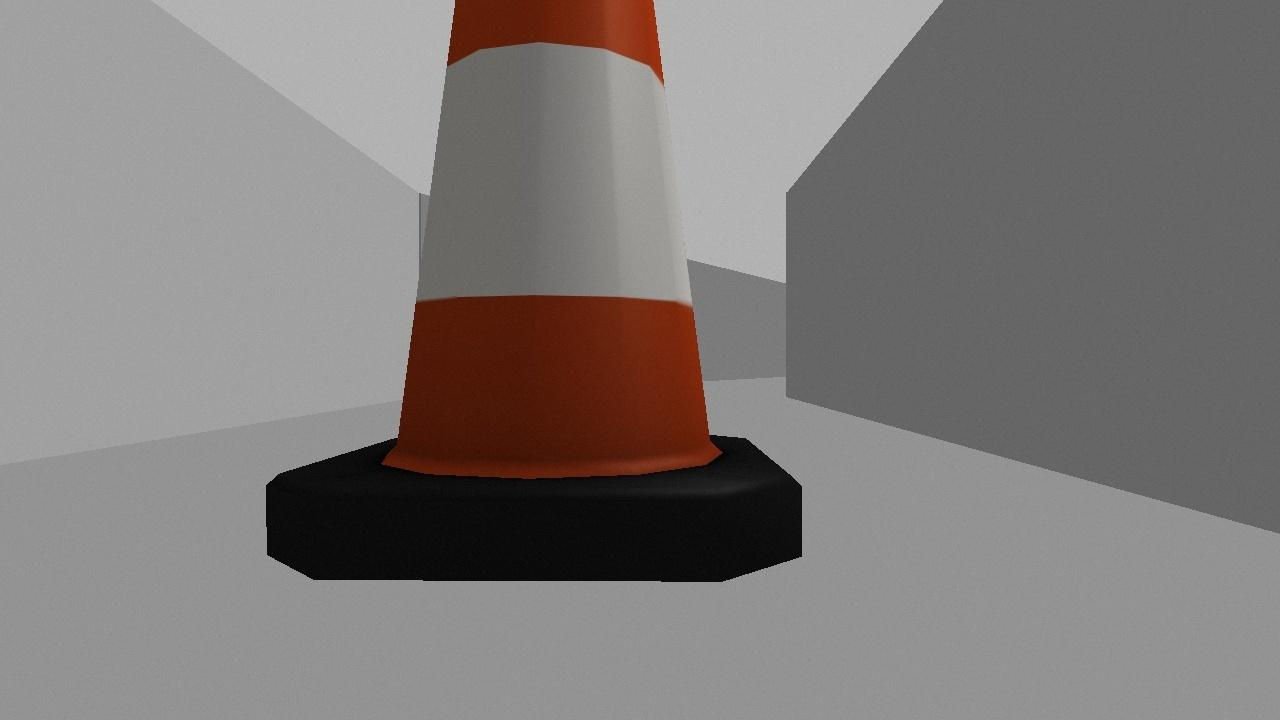cone_barrel: (238, 0, 832, 611)
